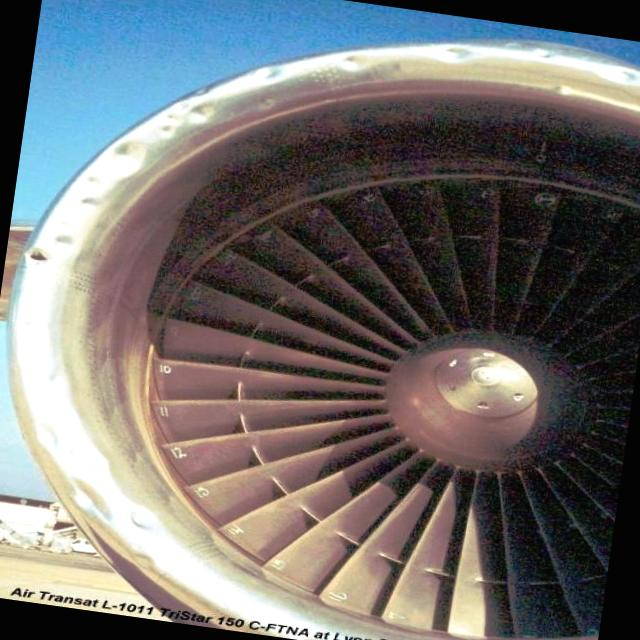dent: (5, 411, 183, 578), (69, 80, 222, 194)
